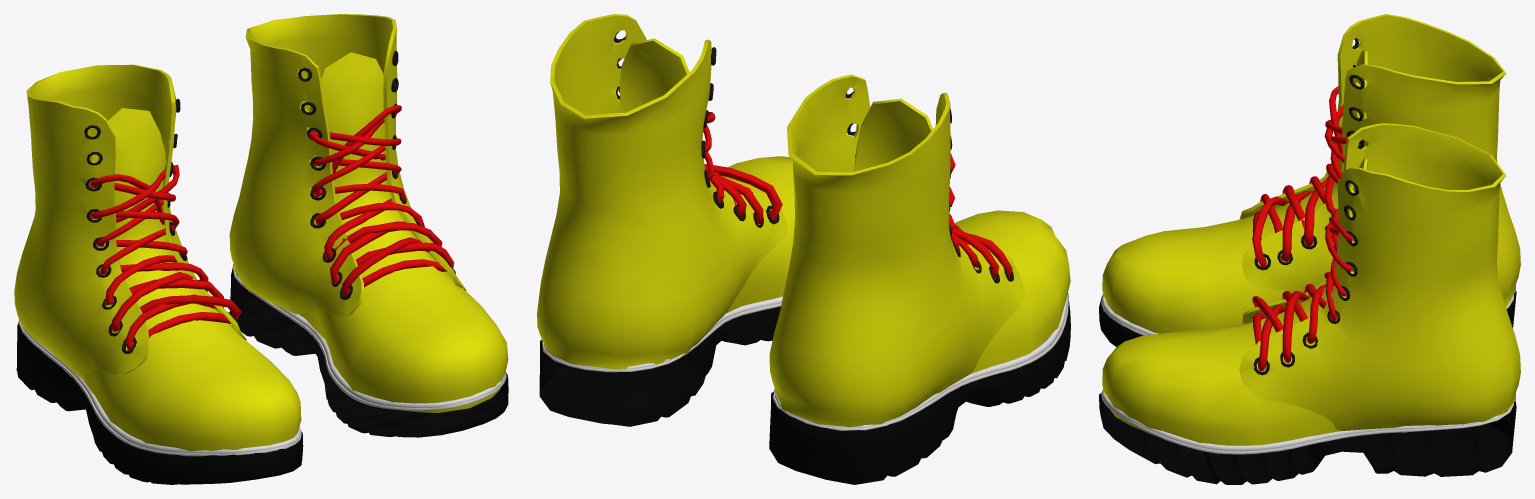
The model's file is Boots3.FBX.
3 renders of one model, left to right at view 1: azimuth 30°, elevation 25°; view 2: azimuth 150°, elevation 25°; view 3: azimuth 270°, elevation 25°, orthographic. The views are drawn at different scales.
Visible parts, largest first — view 1: Old Shoes Left, Old Shoes Right; view 2: Old Shoes Left, Old Shoes Right; view 3: Old Shoes Right, Old Shoes Left.
Boxes of the visible parts, x1,y1,x2,y2 form: Old Shoes Left: [14, 64, 303, 484]; Old Shoes Right: [229, 14, 508, 437]; Old Shoes Left: [769, 74, 1070, 484]; Old Shoes Right: [537, 14, 794, 426]; Old Shoes Right: [1099, 123, 1520, 484]; Old Shoes Left: [1099, 14, 1520, 346].
Bounding box in the file's own units: 278 × 224 × 281.
